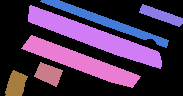parkingspot: (28, 5, 161, 68), (21, 35, 140, 87), (40, 0, 168, 47), (139, 4, 183, 26), (34, 62, 62, 86), (5, 70, 27, 96)
